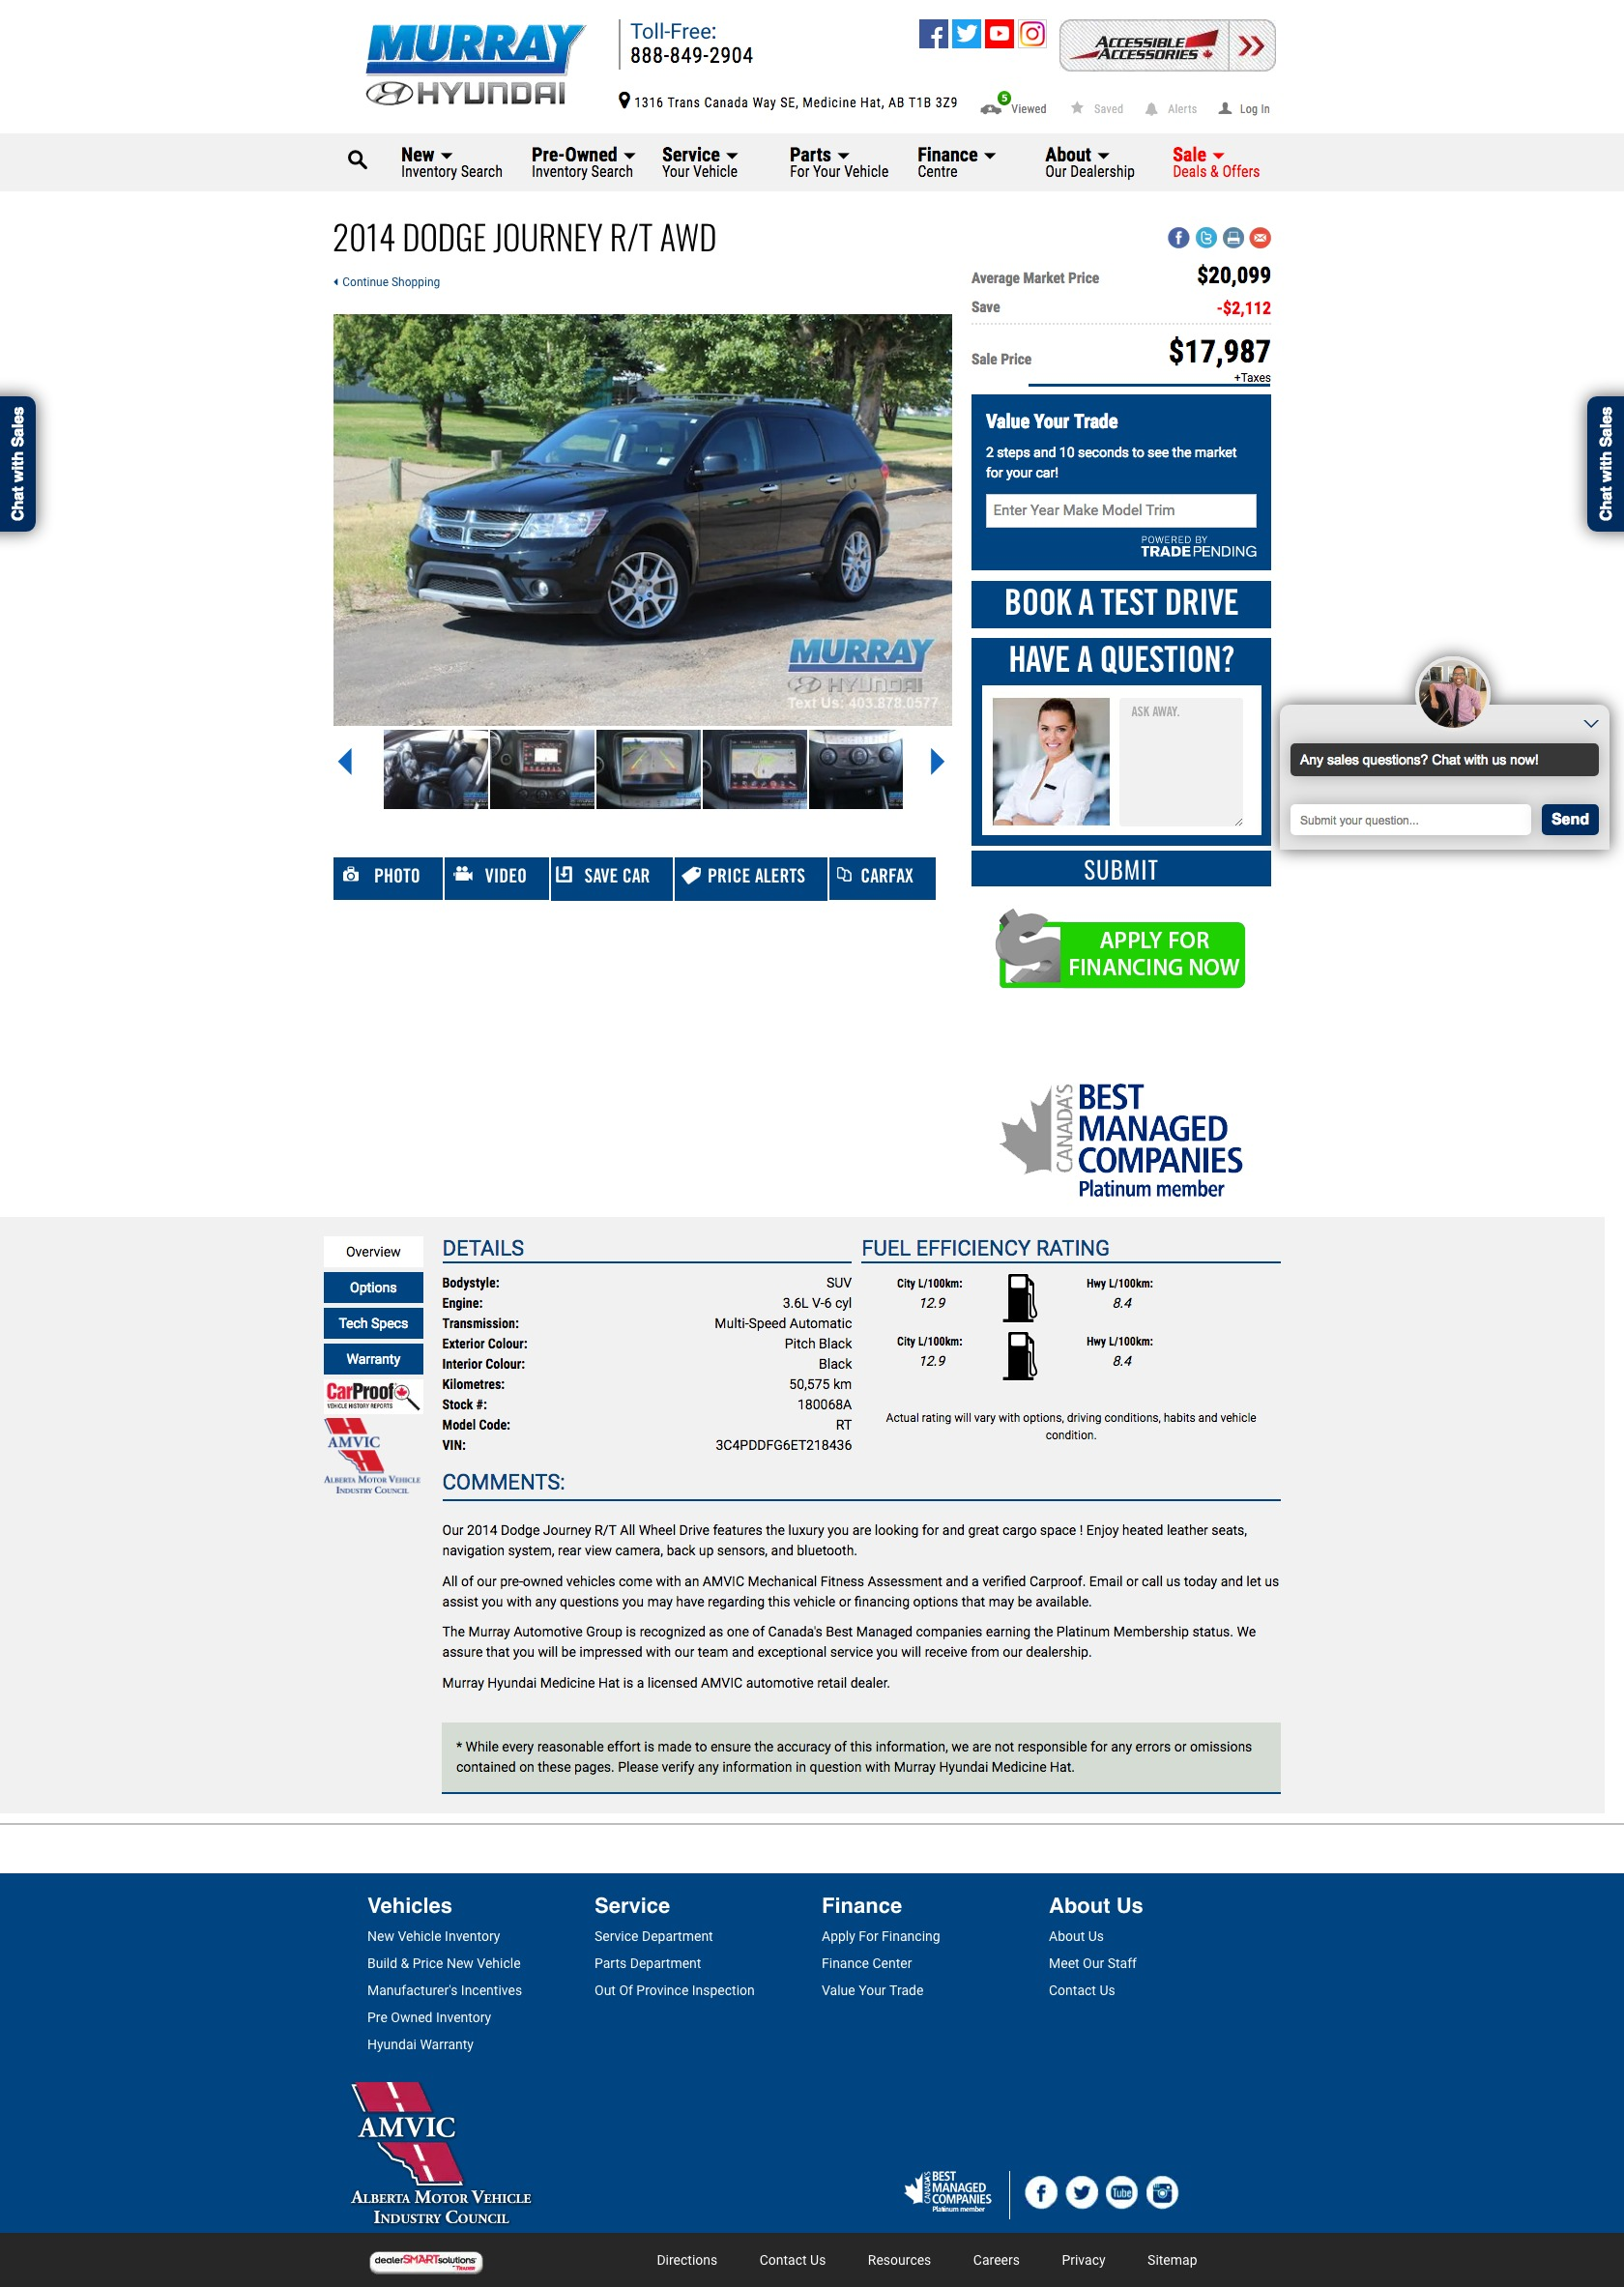car: (930, 747, 946, 778)
